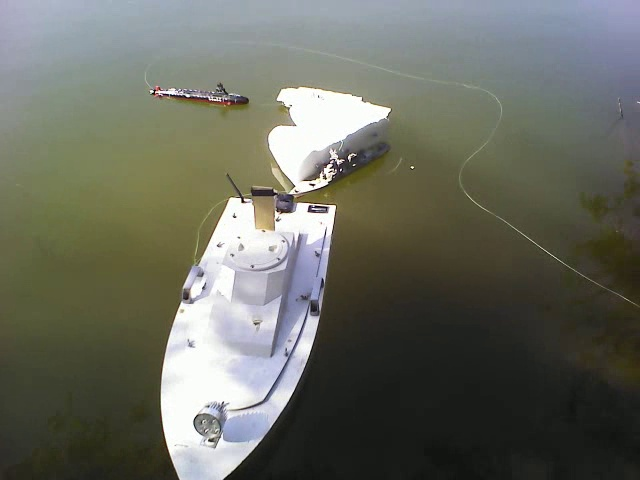boat: (155, 189, 335, 475)
iceberg: (268, 86, 387, 166)
submarine: (143, 77, 253, 107)
